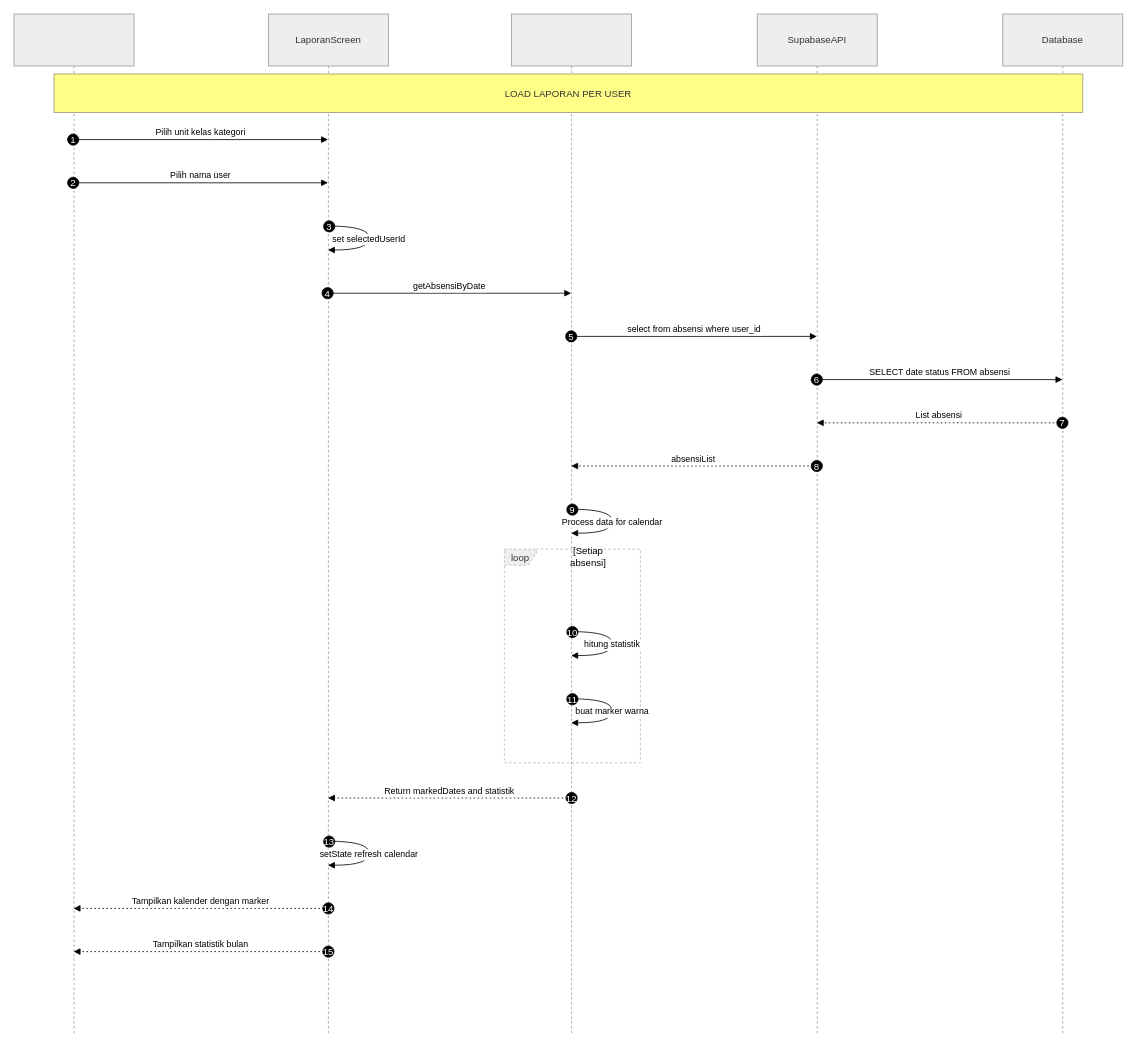
Some shapes in this 1137 by 1050 pixel diagram are drawn without their labels. The box of each missing label's shape, as (x1, y1, x2, y2) in pixels:
AbsensiProvider: (511, 13, 632, 1036)
User: (13, 13, 134, 1036)
